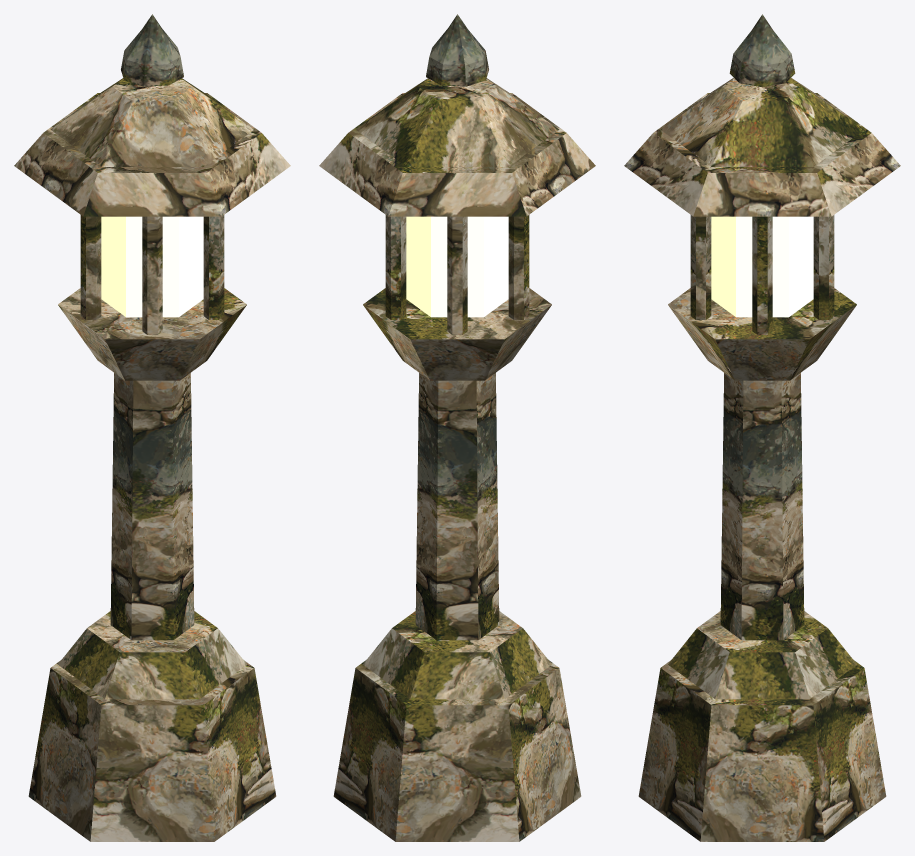
The model's file is edo_stone_lantern.glb.
The picture shows the model from 3 angles, left to right: view 1: azimuth 30°, elevation 25°; view 2: azimuth 150°, elevation 25°; view 3: azimuth 270°, elevation 25°; orthographic projection.
Parts seen in each view (by area): view 1: stone_lantern_body, stone_lantern_core; view 2: stone_lantern_body, stone_lantern_core; view 3: stone_lantern_body, stone_lantern_core.
Part boxes in pixels (x1=…): stone_lantern_body: x1=14, y1=14, x2=290, y2=841; stone_lantern_core: x1=101, y1=216, x2=203, y2=317; stone_lantern_body: x1=319, y1=14, x2=595, y2=841; stone_lantern_core: x1=406, y1=216, x2=508, y2=317; stone_lantern_body: x1=624, y1=14, x2=900, y2=841; stone_lantern_core: x1=711, y1=216, x2=813, y2=317.
Size of the model in its own units: 0.6582 by 2.37 by 0.76.
2 materials, 1 textured.
